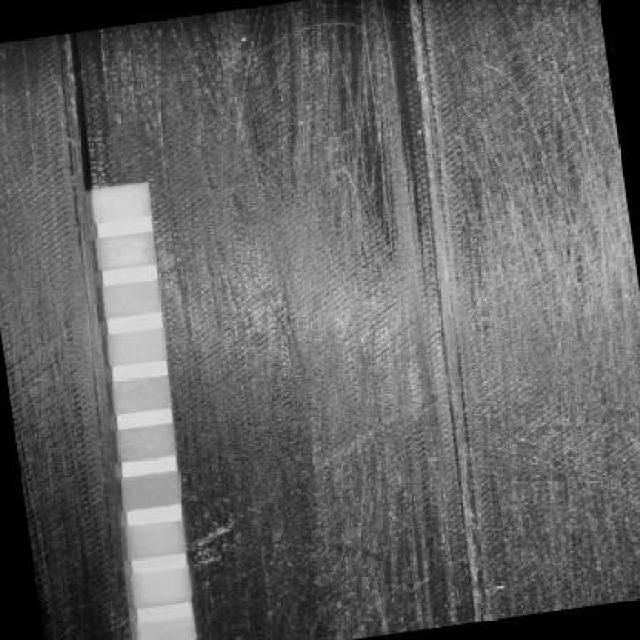Bilirubin: (137, 577, 191, 601)
Blood: (122, 431, 175, 454)
Glucose: (138, 625, 194, 640)
Ketone: (133, 528, 184, 551)
Leukocytes: (99, 189, 150, 213)
Nitrite: (101, 239, 154, 263)
Protein: (112, 336, 166, 358)
SpGravity: (127, 479, 180, 504)
Urobilinogen: (108, 286, 160, 310)
background: (0, 0, 640, 640)
pH: (117, 383, 170, 406)
strip: (94, 183, 197, 638)
